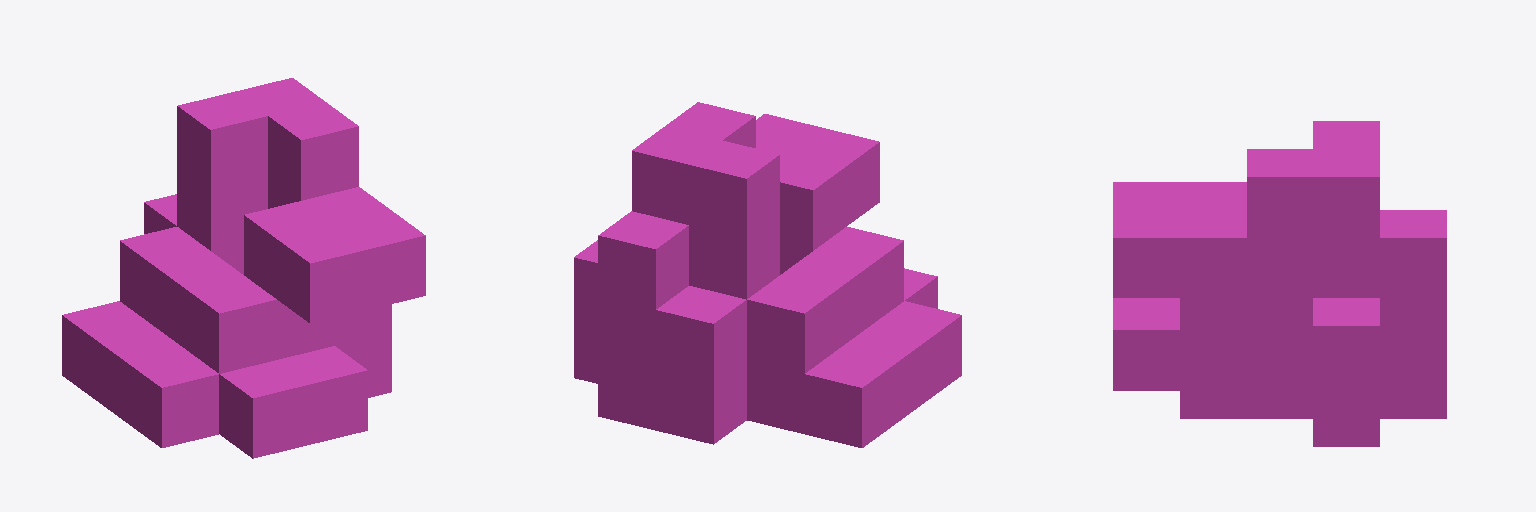
Rendered from sample.obj.
3 renders of one model, left to right at view 1: azimuth 30°, elevation 25°; view 2: azimuth 150°, elevation 25°; view 3: azimuth 270°, elevation 25°, orthographic.
Visible parts, largest first — view 1: Box001; view 2: Box001; view 3: Box001.
Part boxes in pixels (x1,y1,x2,y2): Box001: (62, 78, 425, 458); Box001: (574, 102, 961, 447); Box001: (1113, 121, 1446, 446).
Size of the model in its own units: 5 by 4 by 5.